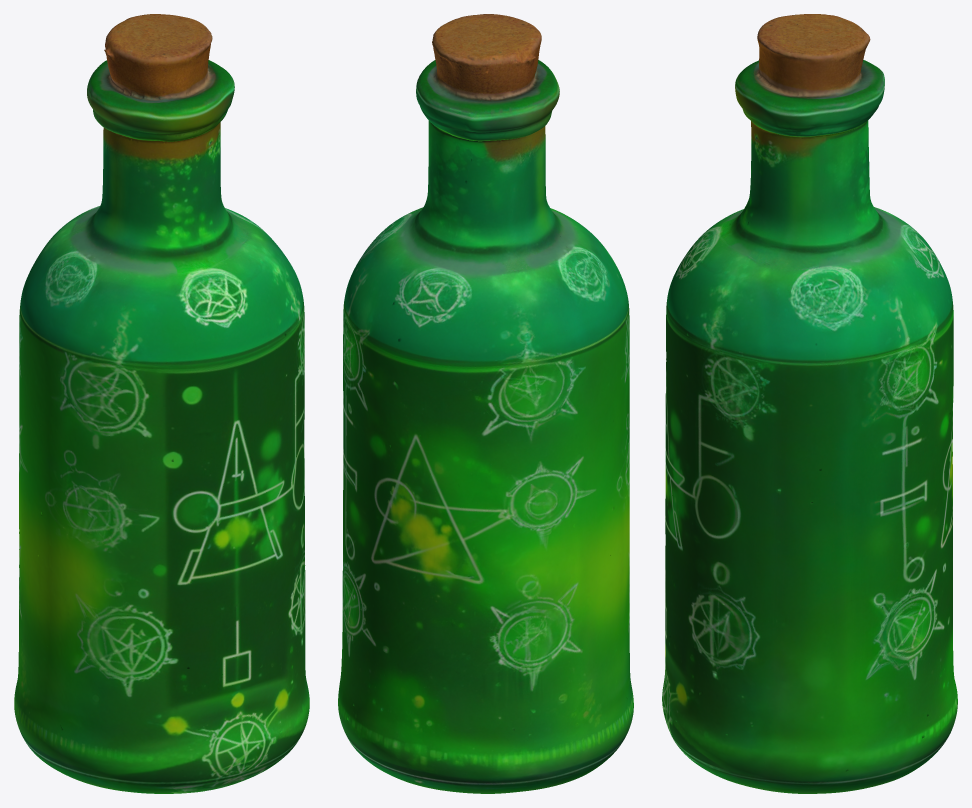
File: bottle_green.FBX
3 views of the same model, side by side, from view 1: azimuth 30°, elevation 25°; view 2: azimuth 150°, elevation 25°; view 3: azimuth 270°, elevation 25° (orthographic).
Visible parts, largest first — view 1: Mesh_0; view 2: Mesh_0; view 3: Mesh_0.
Boxes of the visible parts, x1,y1,x2,y2 form: Mesh_0: [14, 14, 309, 793]; Mesh_0: [338, 14, 633, 793]; Mesh_0: [662, 14, 957, 793].
Bounding box in the file's own units: 75.49 × 200 × 75.21.
1 material, 1 textured.
